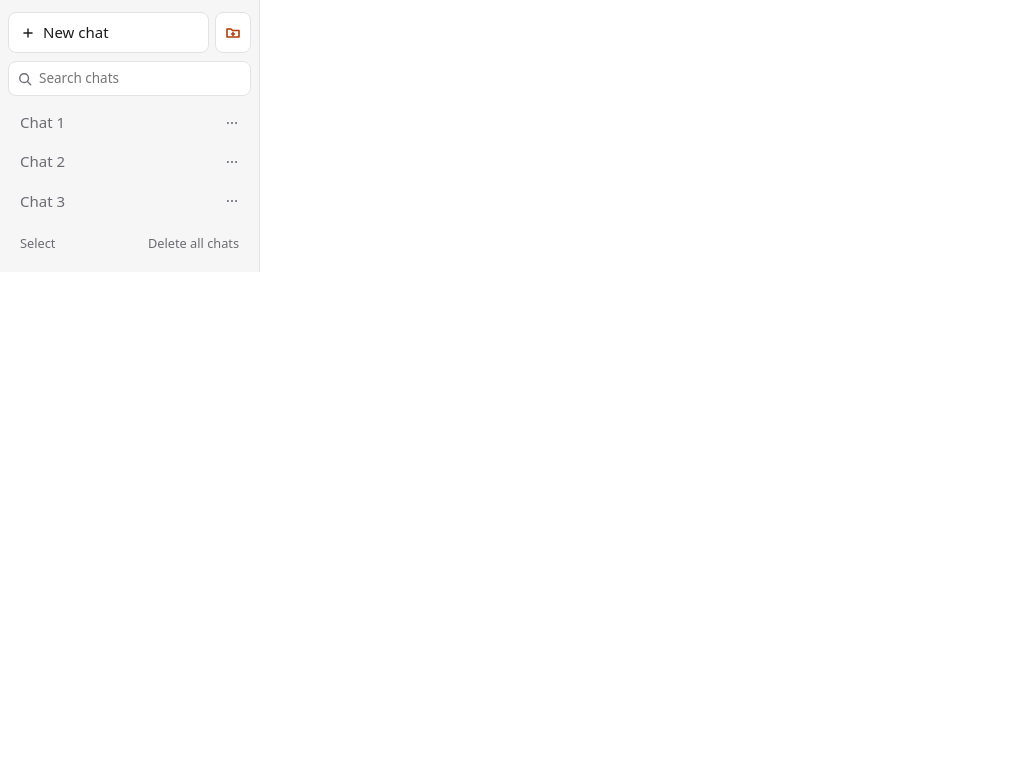
select mode › says 'chat', not 'chats', for one
Step 1. Click the button "Select" → (38, 244), box [8,228,67,260]
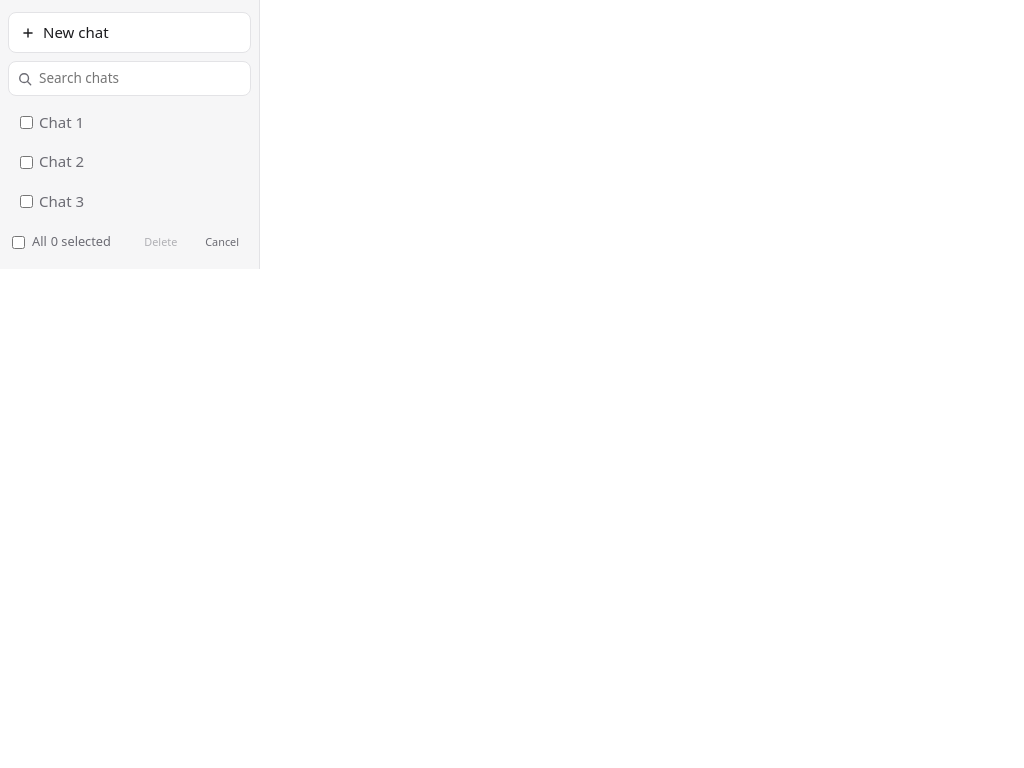
Step 2. Click the list item "Chat 1" → (52, 122), box [20,112,84,132]
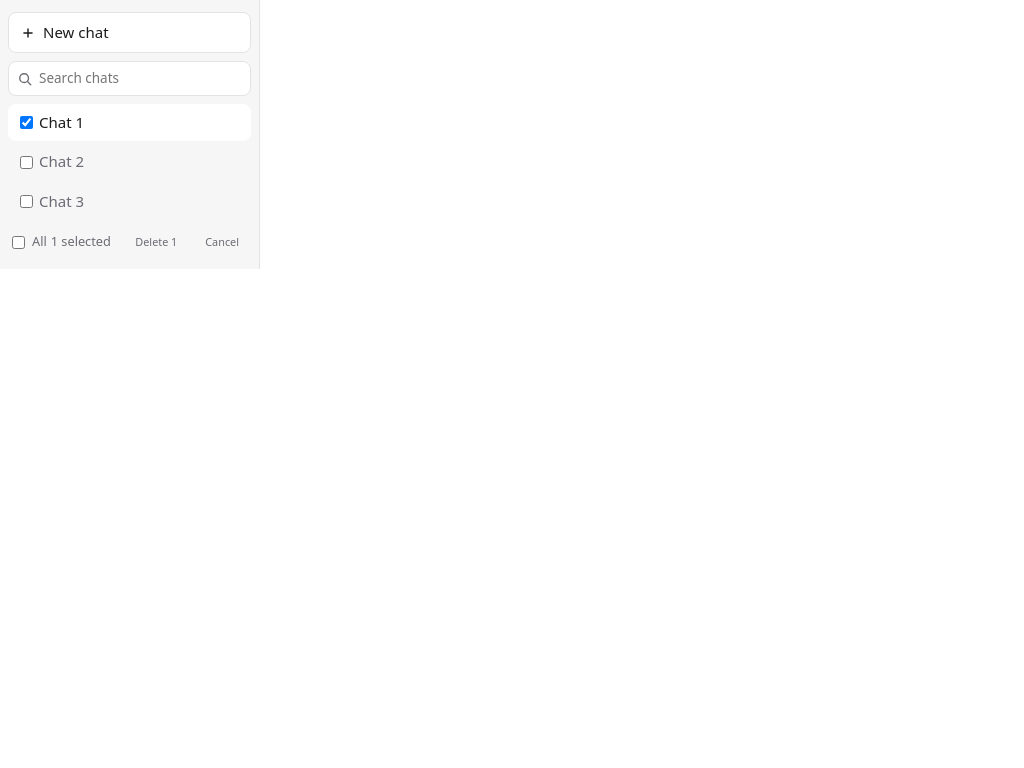
Step 3. Click the button with class "danger" → (156, 242), box [123,228,189,257]
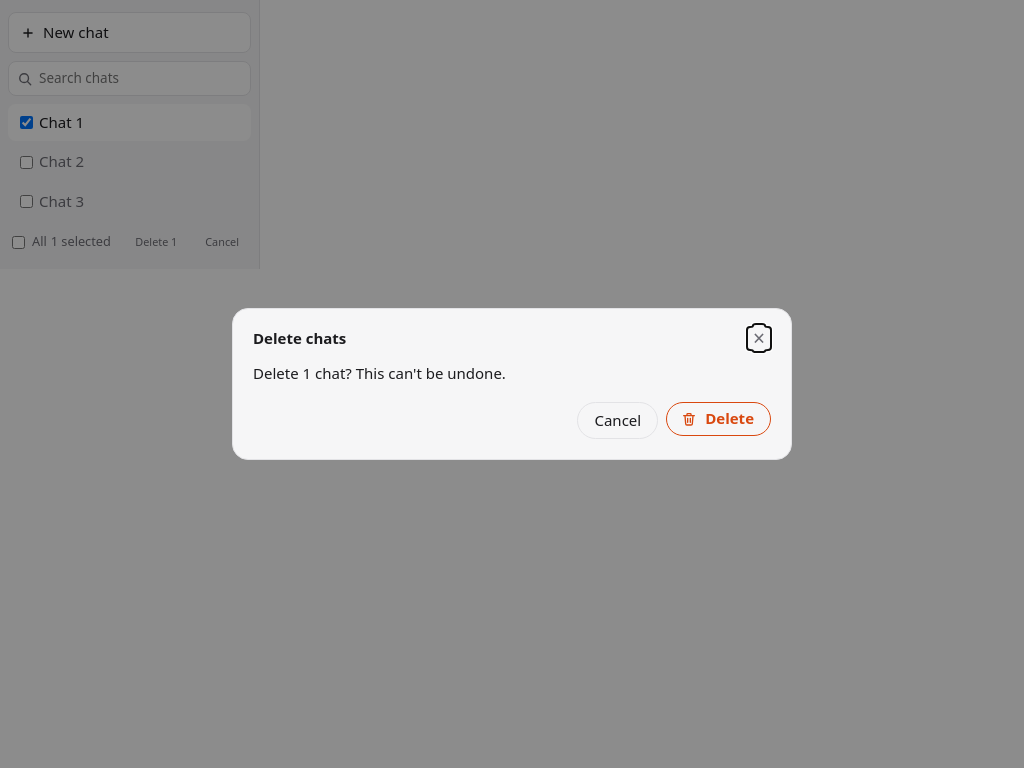
Now the text "Delete 1 chat? This can't be undone." is shown, box [253,363,506,383]
